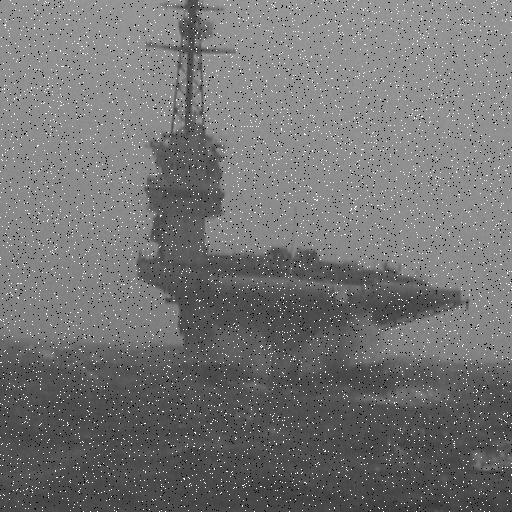Portanaves: (135, 1, 473, 413)
